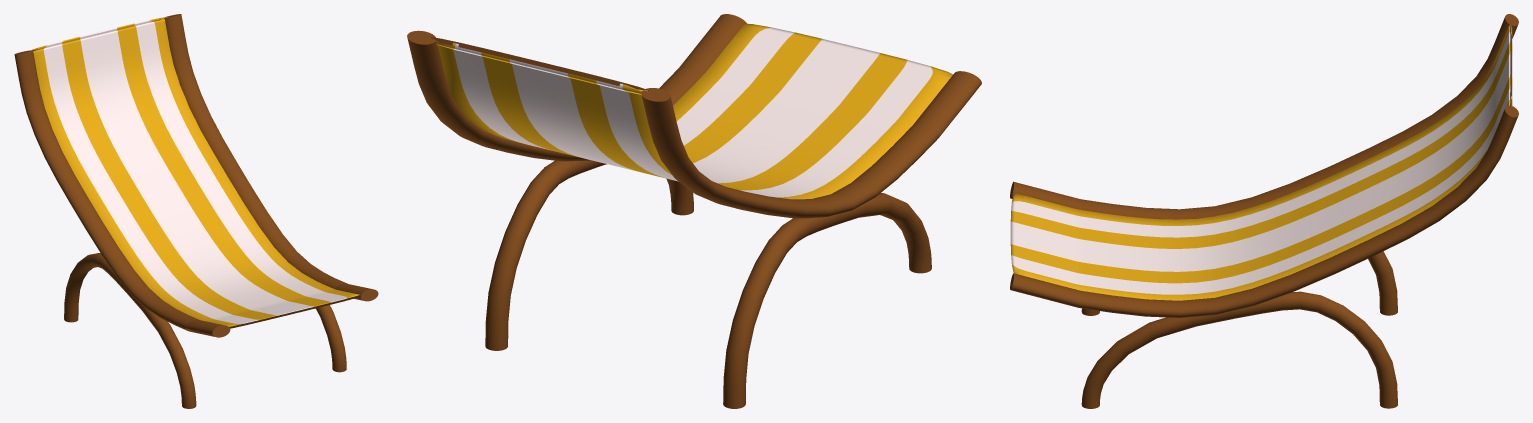
Rendered from beachHammockYellow.fbx.
3 renders of one model, left to right at view 1: azimuth 30°, elevation 25°; view 2: azimuth 150°, elevation 25°; view 3: azimuth 270°, elevation 25°, orthographic. The views are drawn at different scales.
Parts seen in each view (by area): view 1: Hammock.001, Hammock; view 2: Hammock.001, Hammock; view 3: Hammock.001, Hammock.
Part boxes in pixels (<box>): Hammock.001: <box>30,17,359,332</box>; Hammock: <box>14,14,378,408</box>; Hammock.001: <box>431,23,960,199</box>; Hammock: <box>407,14,981,408</box>; Hammock.001: <box>1010,22,1512,300</box>; Hammock: <box>1010,14,1518,408</box>.
Bounding box in the file's own units: 254 × 342 × 532.
